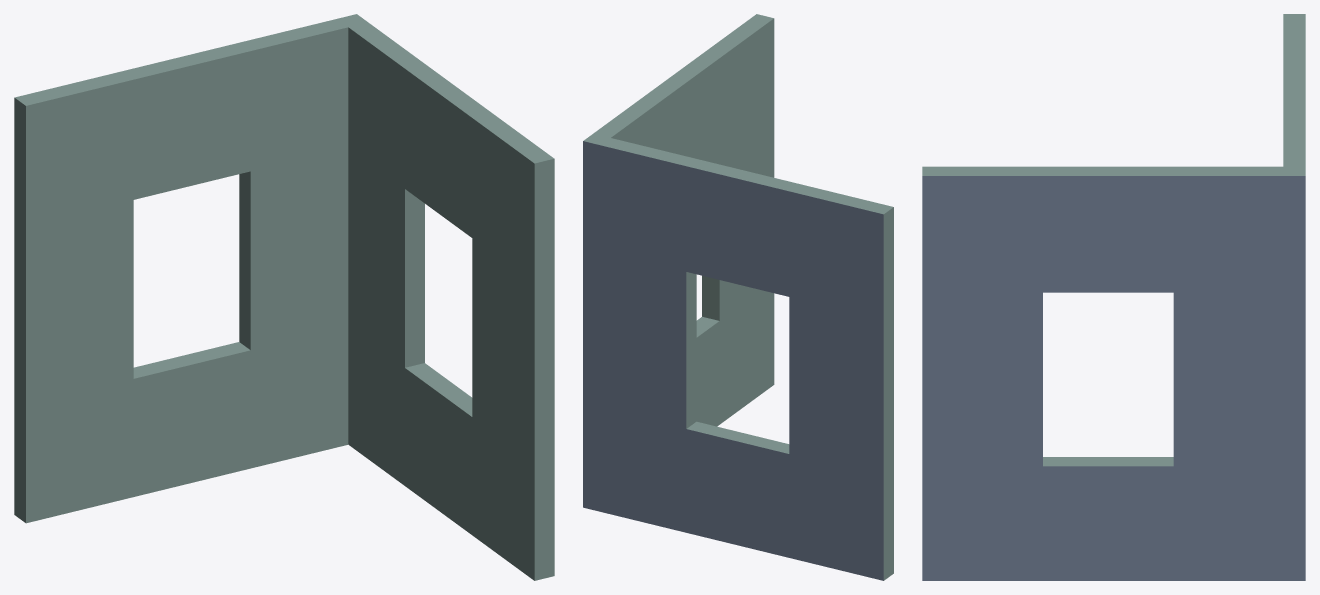
Rendered from Wall3_C5_09.fbx.
The picture shows the model from 3 angles, left to right: view 1: azimuth 30°, elevation 25°; view 2: azimuth 150°, elevation 25°; view 3: azimuth 270°, elevation 25°; orthographic projection. The views are drawn at different scales.
Visible parts, largest first — view 1: Wall3_C5_09; view 2: Wall3_C5_09; view 3: Wall3_C5_09.
Part boxes in pixels (box(x1,y1,x2,y2)): Wall3_C5_09: box(14, 14, 554, 580); Wall3_C5_09: box(583, 14, 893, 580); Wall3_C5_09: box(922, 14, 1305, 580).
Bounding box in the file's own units: 258 × 300 × 258.
